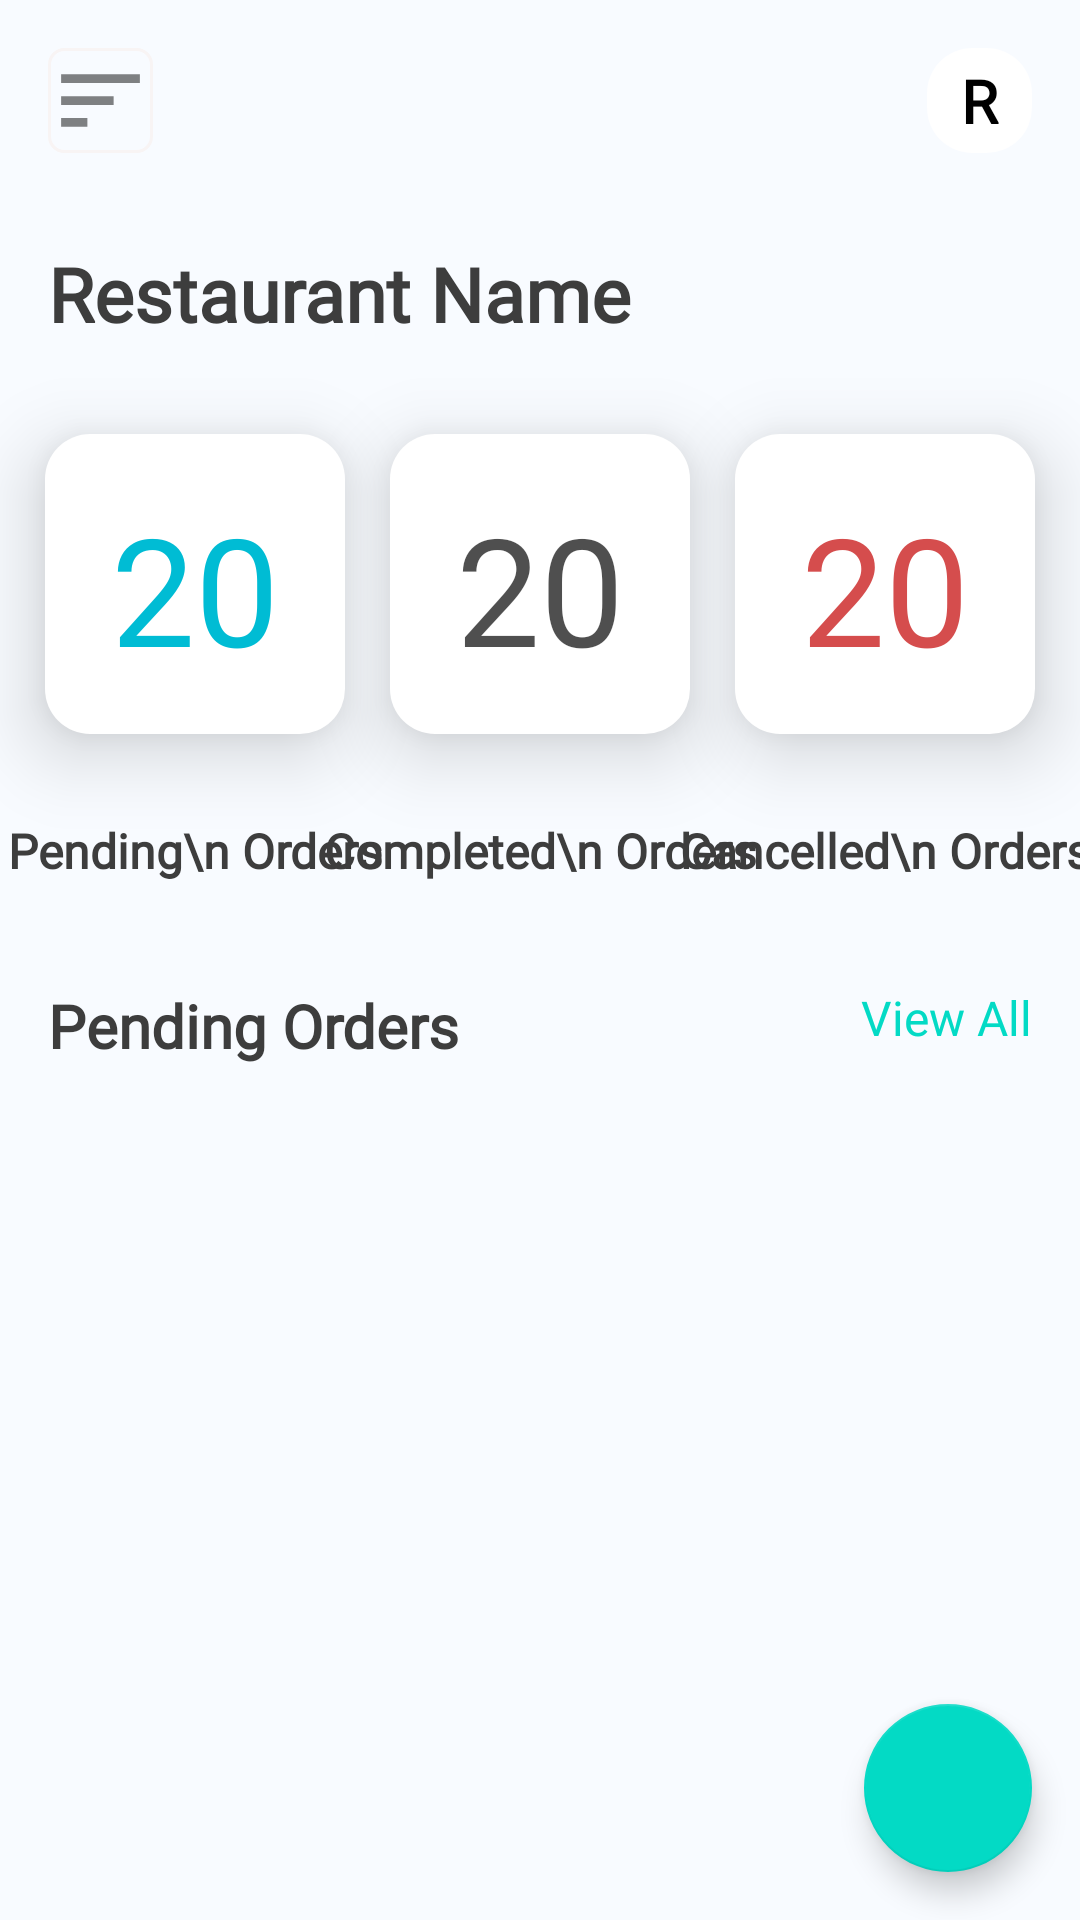

Icon bounding boxes for this 1080w x 1920h phone screenshot, format (x1, y1, x2, y2):
sort: (61, 74, 140, 127)
